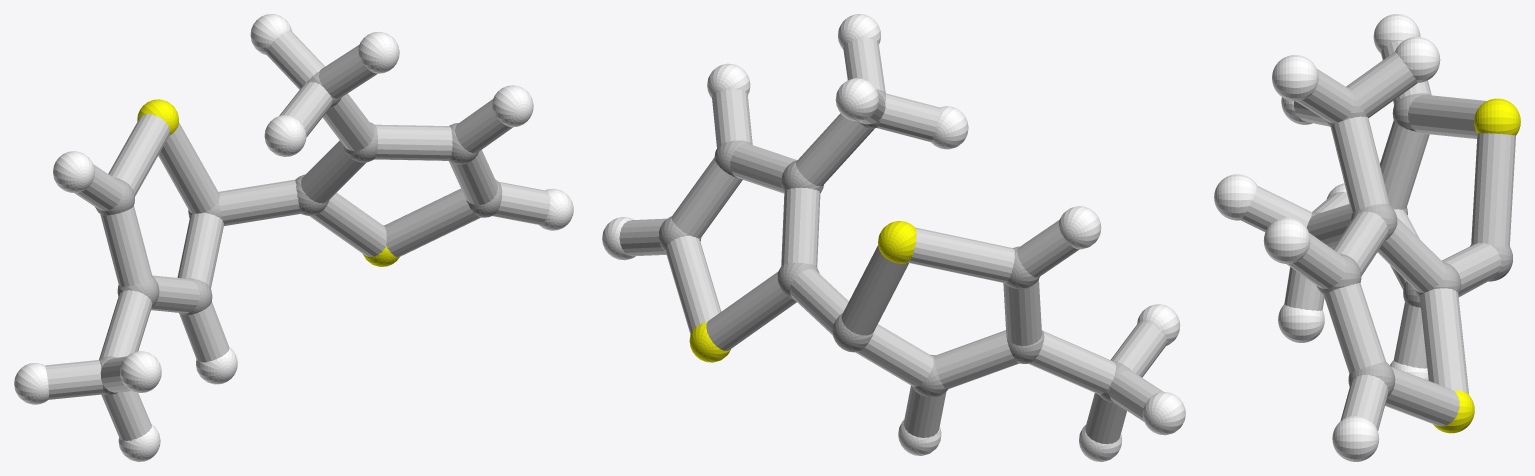
The model's file is Methylthiophene_Phi_60_Theta_50_Methylthiophene.glb.
The picture shows the model from 3 angles, left to right: view 1: azimuth 30°, elevation 25°; view 2: azimuth 150°, elevation 25°; view 3: azimuth 270°, elevation 25°; orthographic projection. The views are drawn at different scales.
Parts seen in each view (by area): view 1: grp7965, grp3621, grp1, grp7241; view 2: grp7965, grp3621, grp1, grp7241; view 3: grp7965, grp3621, grp1, grp7241.
Part boxes in pixels (left/top/right/bottom): grp7965: left=45, top=30, right=550, bottom=440; grp3621: left=14, top=14, right=573, bottom=461; grp1: left=95, top=71, right=502, bottom=395; grp7241: left=137, top=99, right=399, bottom=266; grp7965: left=619, top=38, right=1167, bottom=444; grp3621: left=602, top=14, right=1185, bottom=461; grp1: left=658, top=89, right=1130, bottom=403; grp7241: left=689, top=221, right=916, bottom=362; grp7965: left=1240, top=40, right=1515, bottom=430; grp3621: left=1214, top=14, right=1440, bottom=461; grp1: left=1307, top=93, right=1512, bottom=396; grp7241: left=1433, top=98, right=1520, bottom=433.
Size of the model in its own units: 9.18 by 5.83 by 3.93.
